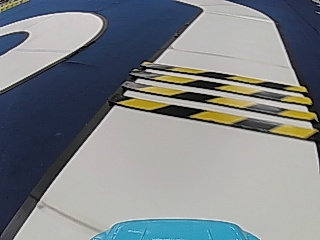bump: (114, 60, 319, 143)
